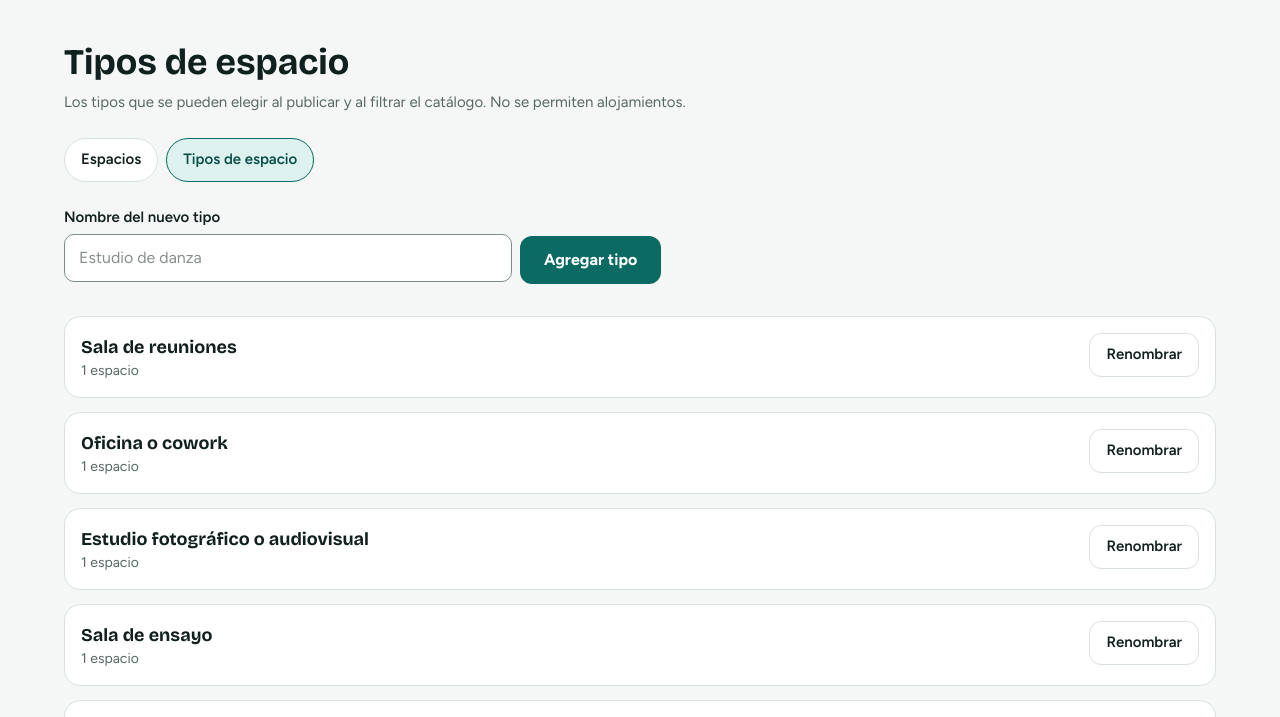
AdminSpaceTypesPage (AD-02) › crear › un nombre vacío no se manda y lo pide
The width and height of the screenshot is (1280, 717).
Click the button "Agregar tipo".
click(591, 260)  # box [520,236,661,284]
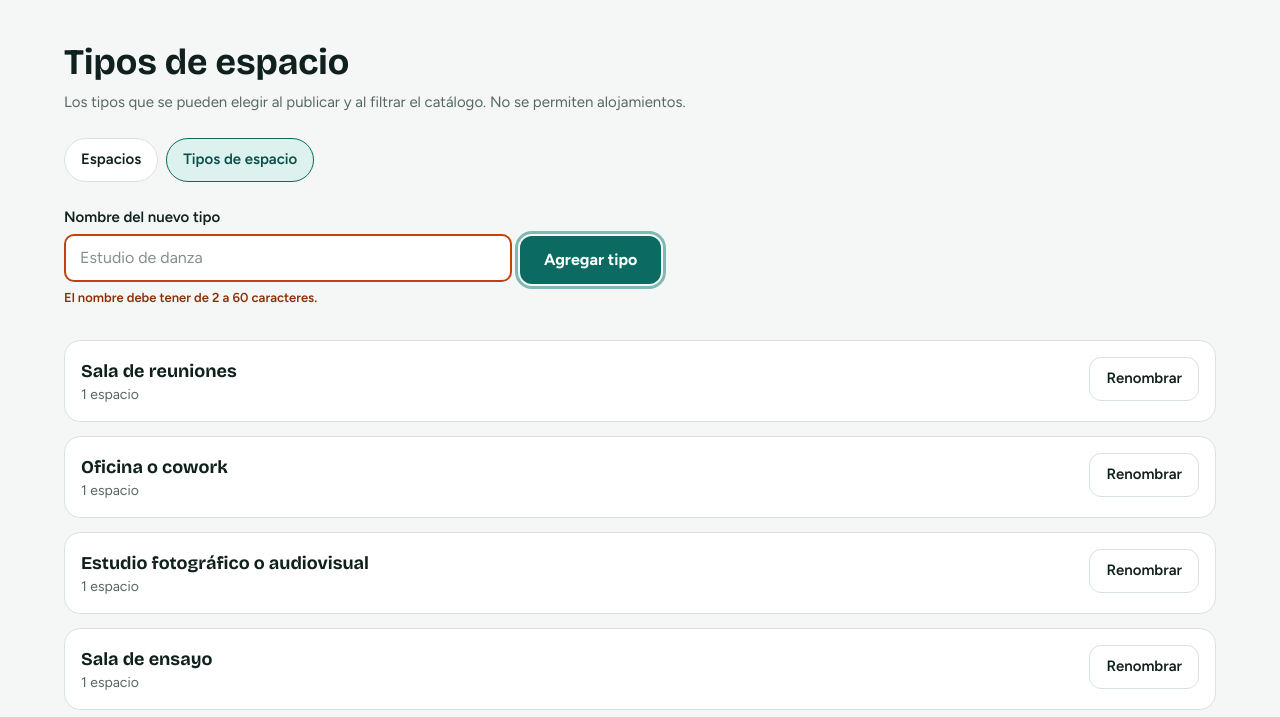
Check: the text "El nombre debe tener de 2 a 60 caracteres." is shown, box [64,290,317,305]
